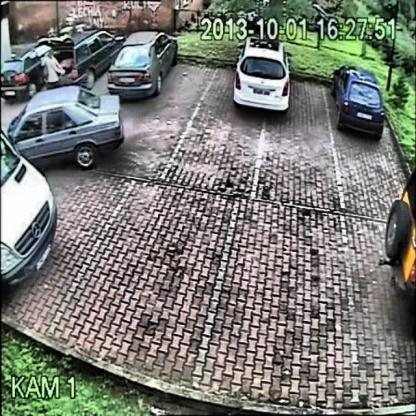free: (242, 252, 337, 390), (109, 222, 198, 360), (183, 52, 228, 122)
occupied: (0, 135, 49, 286), (332, 58, 388, 140), (237, 37, 292, 120), (112, 23, 172, 98), (48, 21, 102, 81), (2, 40, 40, 92)
